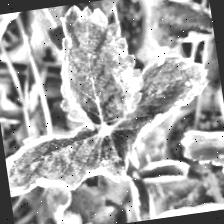Powdery Mildew Leaf: (97, 49, 222, 176), (46, 0, 152, 134), (2, 118, 128, 201), (0, 1, 96, 48), (144, 0, 215, 52), (106, 200, 224, 224), (138, 157, 192, 186), (130, 174, 158, 222)
